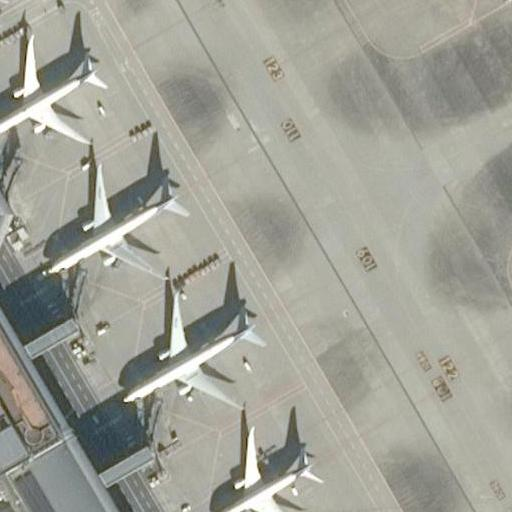Aircraft: (112, 281, 263, 412), (41, 151, 190, 283), (0, 23, 104, 149), (195, 415, 326, 512), (0, 0, 31, 7)
